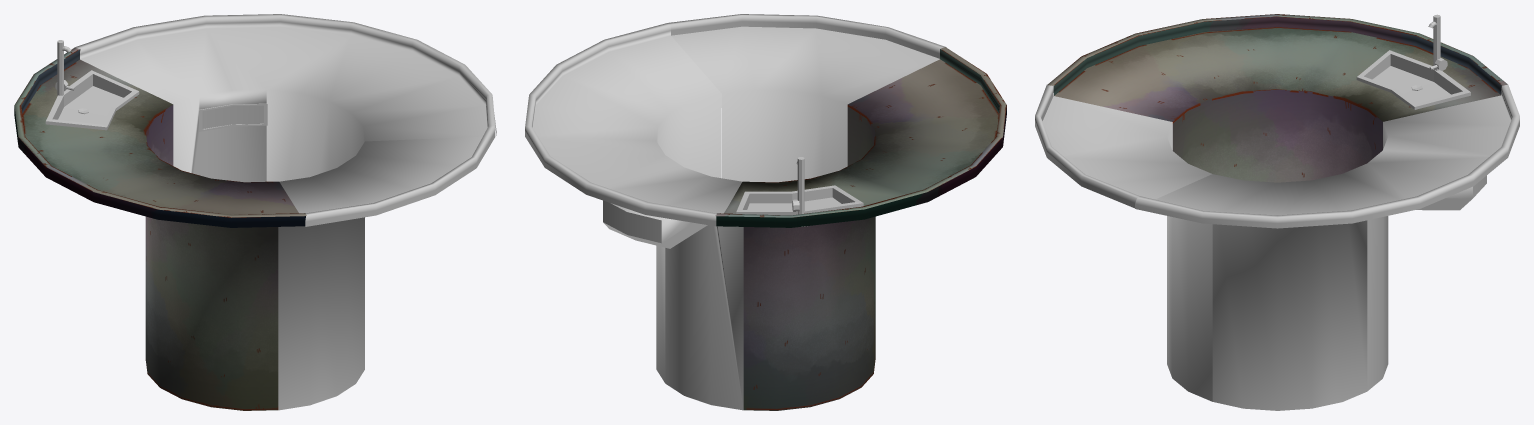
File: kitchen layout.fbx
The picture shows the model from 3 angles, left to right: view 1: azimuth 30°, elevation 25°; view 2: azimuth 150°, elevation 25°; view 3: azimuth 270°, elevation 25°; orthographic projection.
Parts seen in each view (by area): view 1: Counter_bin, Kitchen_Counter, Serve_Counter, Kitchen_Sink, Counter_bin_door; view 2: Counter_bin, Kitchen_Counter, Serve_Counter, Kitchen_Sink; view 3: Counter_bin, Kitchen_Counter, Serve_Counter, Kitchen_Sink.
Part boxes in pixels (x1,y1,x2,y2): Counter_bin: [74, 14, 496, 182]; Kitchen_Counter: [14, 47, 306, 410]; Serve_Counter: [278, 126, 495, 410]; Kitchen_Sink: [45, 40, 139, 130]; Counter_bin_door: [203, 105, 263, 128]; Counter_bin: [525, 23, 743, 410]; Kitchen_Counter: [715, 47, 1006, 410]; Serve_Counter: [668, 14, 946, 182]; Kitchen_Sink: [736, 157, 863, 226]; Counter_bin: [1135, 84, 1519, 410]; Kitchen_Counter: [1047, 14, 1507, 182]; Serve_Counter: [1035, 85, 1212, 401]; Kitchen_Sink: [1356, 14, 1470, 109].
Size of the model in its own units: 299 by 199 by 300.
